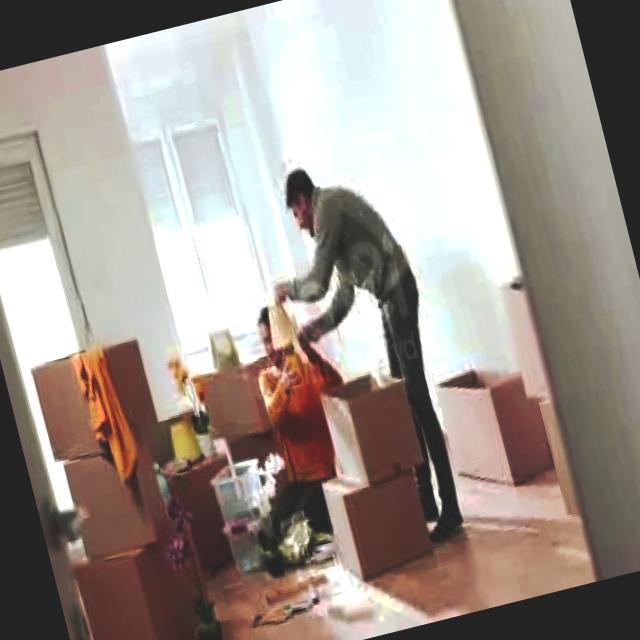Box: (73, 522, 228, 640), (316, 462, 442, 588), (39, 344, 160, 468), (430, 361, 539, 486), (320, 366, 426, 488), (65, 442, 173, 560)
